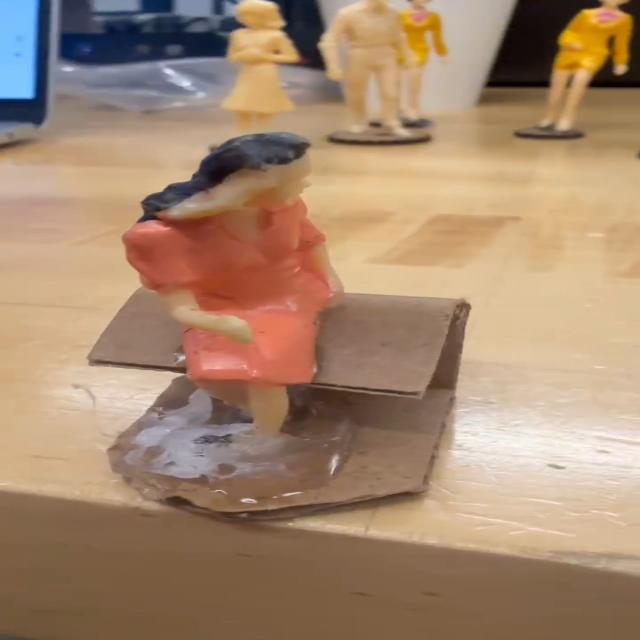Authorized: (44, 130, 460, 509)
